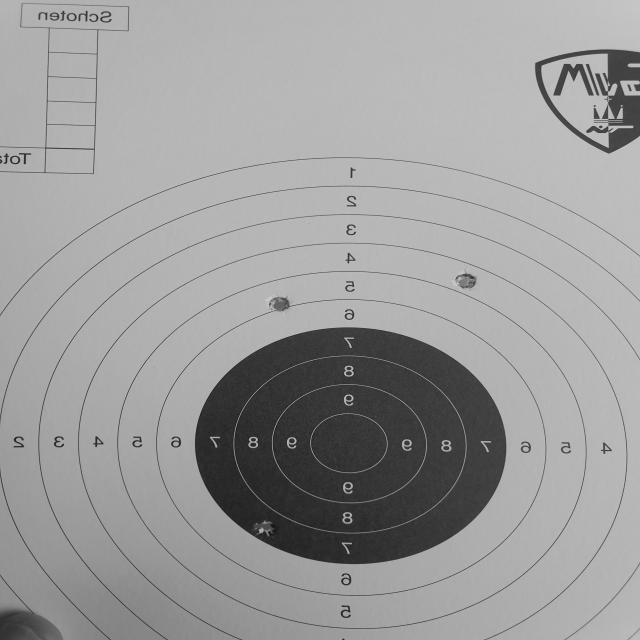4: (453, 269, 478, 290)
6: (265, 293, 296, 315)
7: (252, 519, 279, 539)
Target: (0, 156, 640, 640)
black_contour: (195, 328, 502, 564)
